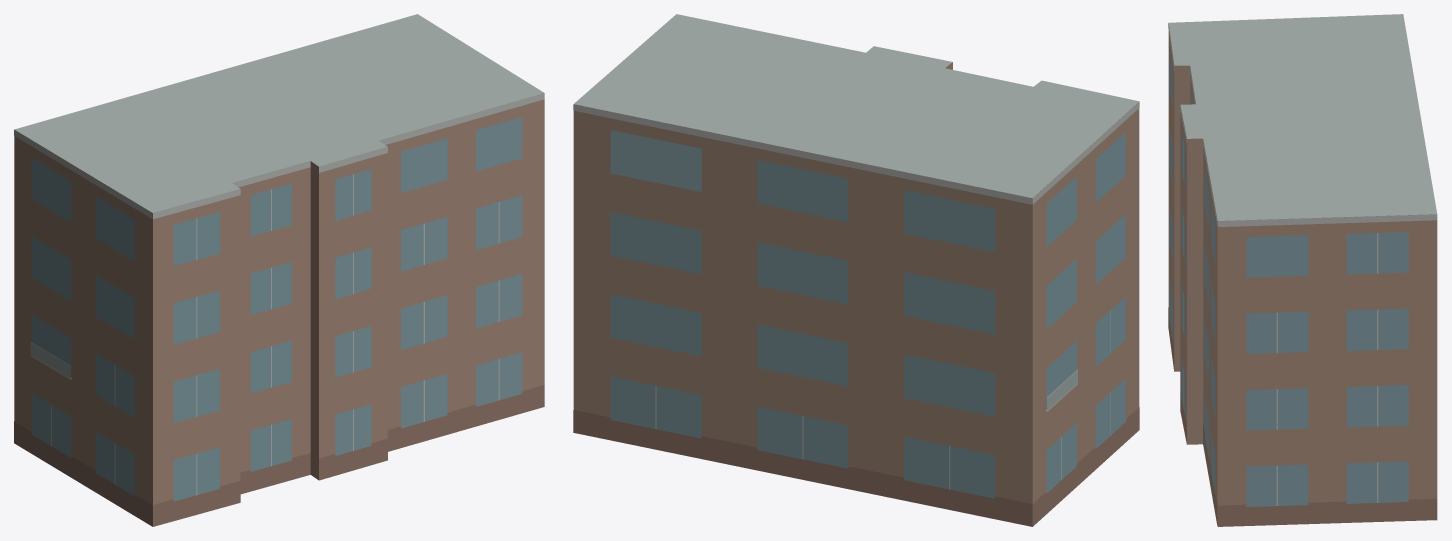
The model's file is survey-upis-32757064.glb.
3 renders of one model, left to right at view 1: azimuth 30°, elevation 25°; view 2: azimuth 150°, elevation 25°; view 3: azimuth 270°, elevation 25°, orthographic. The views are drawn at different scales.
Visible parts, largest first — view 1: survey-upis-32757064.tmp; view 2: survey-upis-32757064.tmp; view 3: survey-upis-32757064.tmp.
Boxes of the visible parts, x1,y1,x2,y2 form: survey-upis-32757064.tmp: [14, 14, 544, 526]; survey-upis-32757064.tmp: [573, 14, 1139, 526]; survey-upis-32757064.tmp: [1168, 14, 1437, 526].
Bounding box in the file's own units: 17.72 × 12.2 × 9.72.
